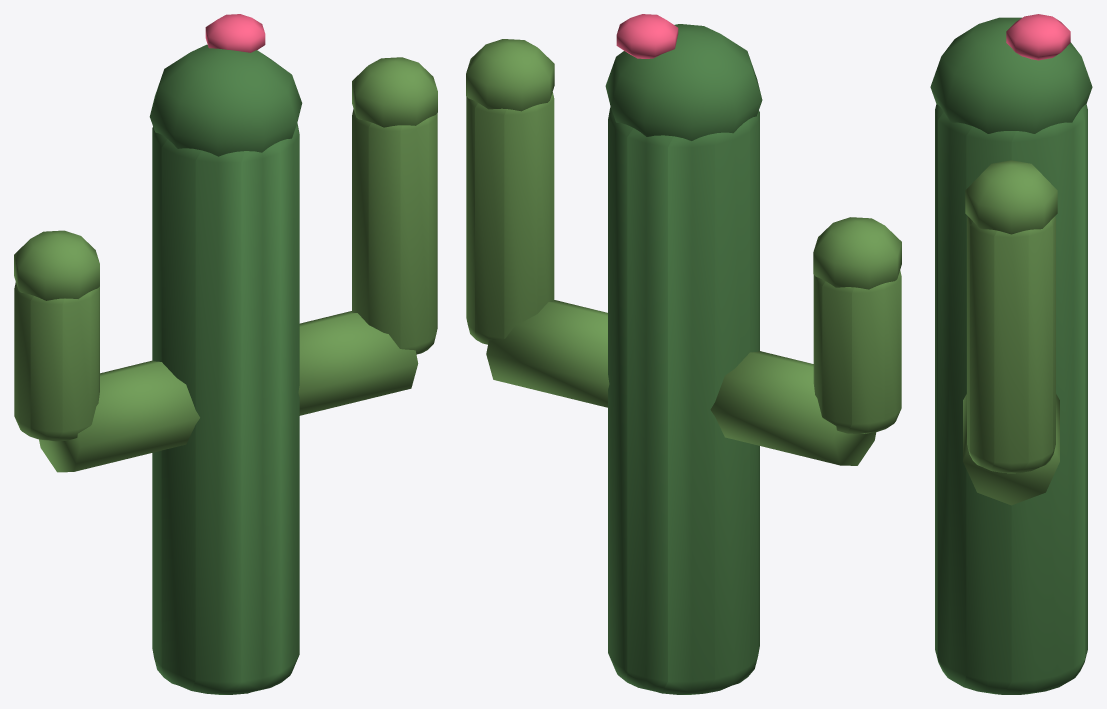
File: cactus_b.glb
3 views of the same model, side by side, from view 1: azimuth 30°, elevation 25°; view 2: azimuth 150°, elevation 25°; view 3: azimuth 270°, elevation 25° (orthographic). The views are drawn at different scales.
Parts seen in each view (by area): view 1: cactus_b; view 2: cactus_b; view 3: cactus_b.
Part boxes in pixels (x1=…): cactus_b: x1=14, y1=14, x2=437, y2=694; cactus_b: x1=466, y1=14, x2=901, y2=694; cactus_b: x1=930, y1=14, x2=1092, y2=694.
Size of the model in its own units: 1.84 by 2.71 by 0.6.
